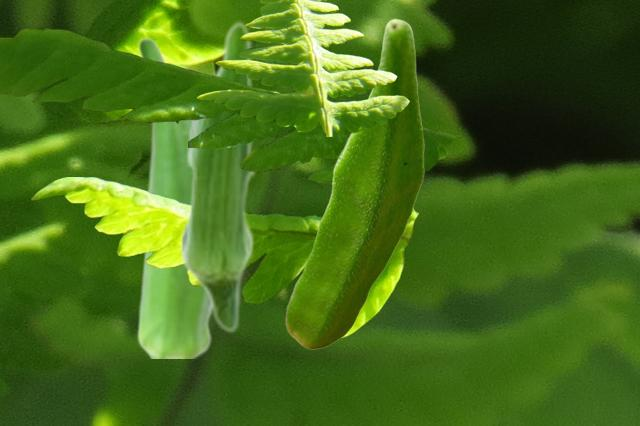okra: (285, 18, 423, 348), (136, 36, 213, 357), (178, 20, 255, 333)
